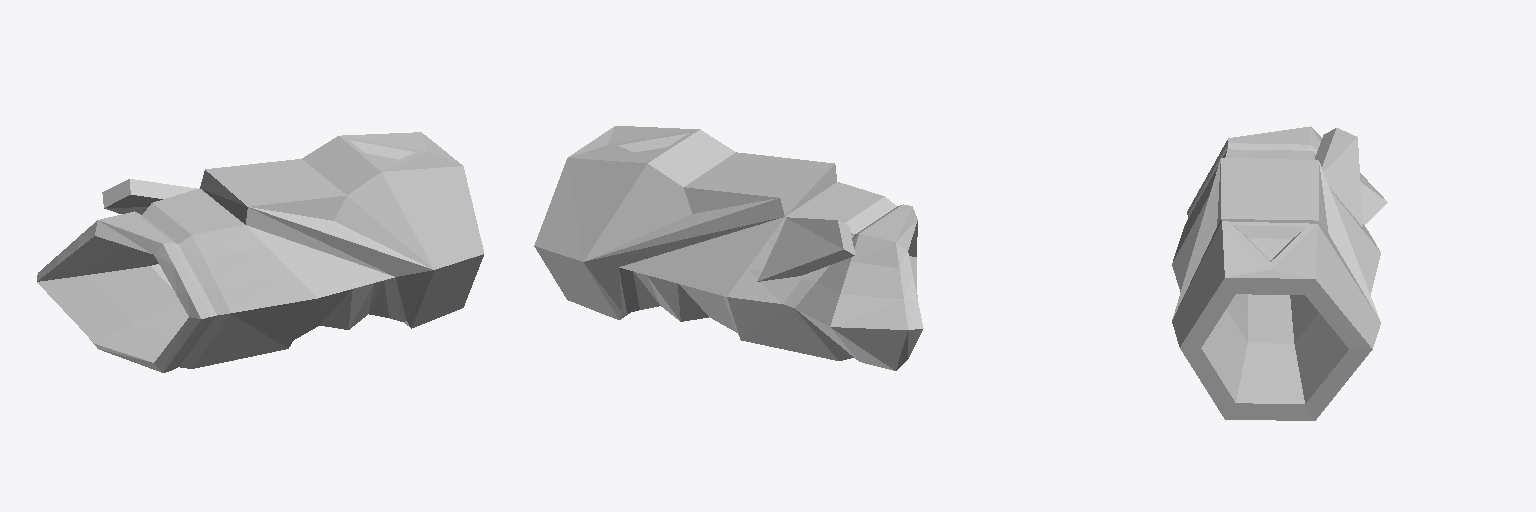
File: hand armor left.obj
3 renders of one model, left to right at view 1: azimuth 30°, elevation 25°; view 2: azimuth 150°, elevation 25°; view 3: azimuth 270°, elevation 25°, orthographic.
Visible parts, largest first — view 1: Circle.000_Circle.023; view 2: Circle.000_Circle.023; view 3: Circle.000_Circle.023.
Boxes of the visible parts, box(x1,y1,x2,y2) form: Circle.000_Circle.023: box(37, 132, 483, 372); Circle.000_Circle.023: box(534, 126, 923, 370); Circle.000_Circle.023: box(1172, 126, 1387, 420).
Size of the model in its own units: 0.6599 by 0.2753 by 0.3297.